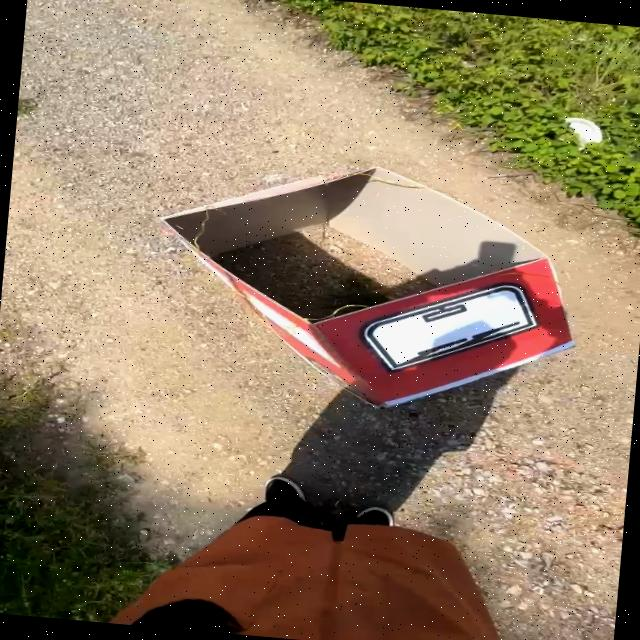red_car: (107, 132, 632, 436)
